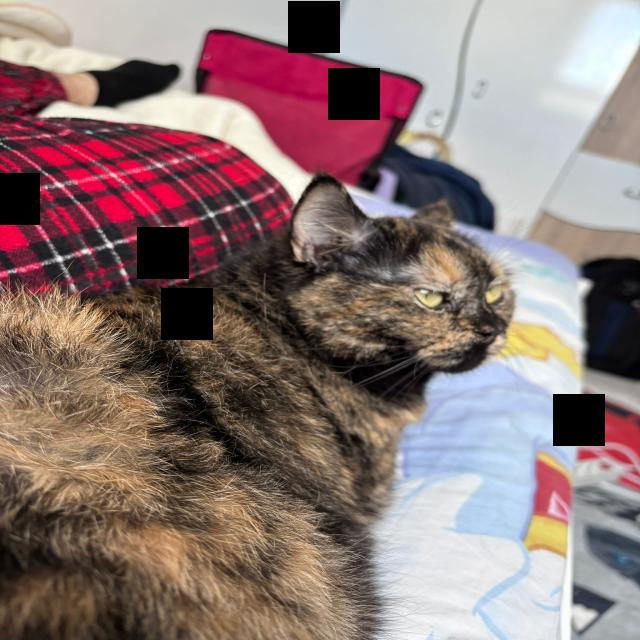authorized: (1, 169, 518, 639)
